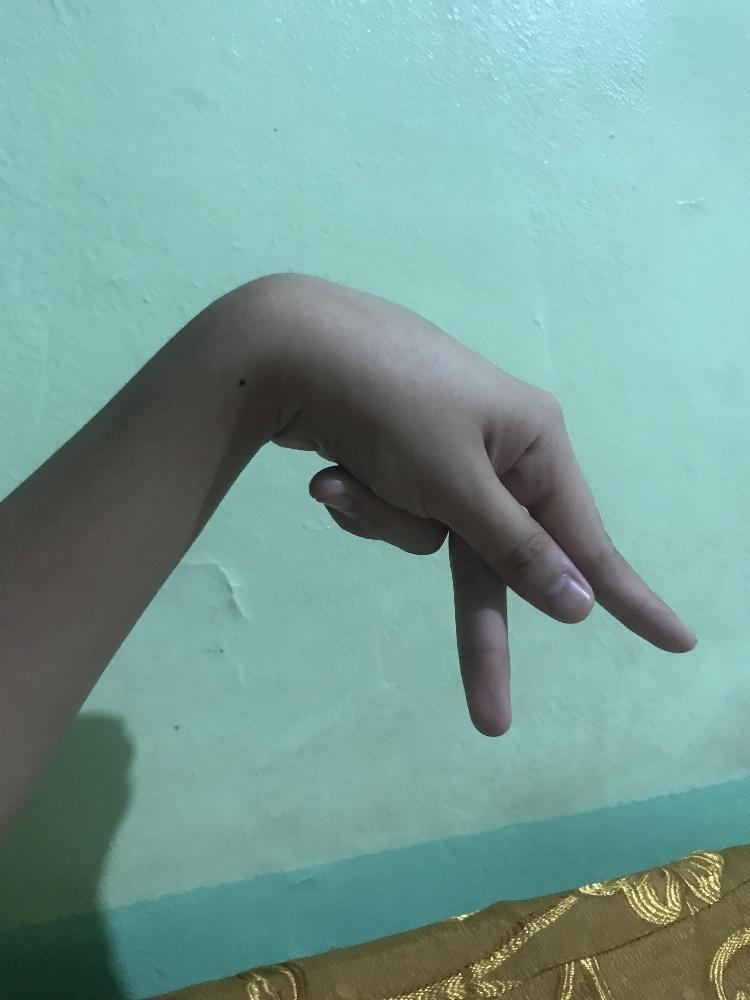p: (280, 262, 698, 739)
